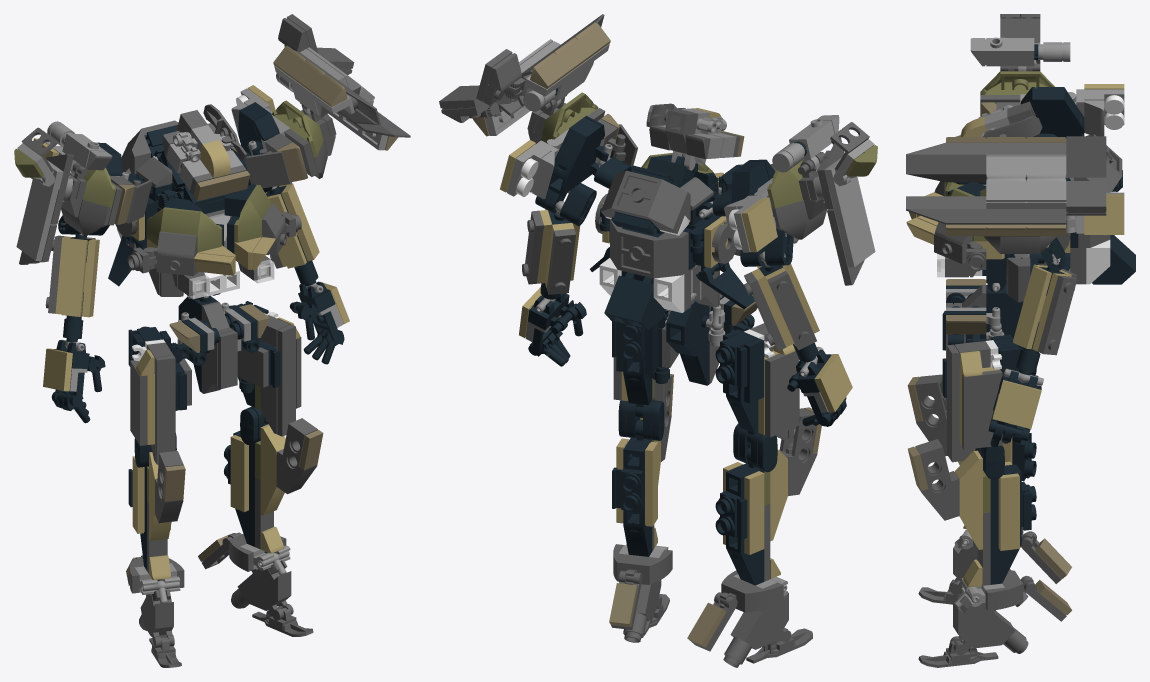
Rendered from sap-03t-oryx.dae.
3 views of the same model, side by side, from view 1: azimuth 30°, elevation 25°; view 2: azimuth 150°, elevation 25°; view 3: azimuth 270°, elevation 25° (orthographic). The views are drawn at different scales.
Size of the model in its own units: 433 by 230 by 622.
